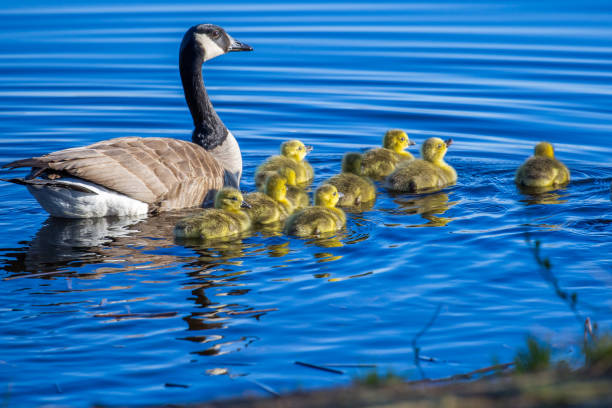goose: (1, 18, 256, 227)
